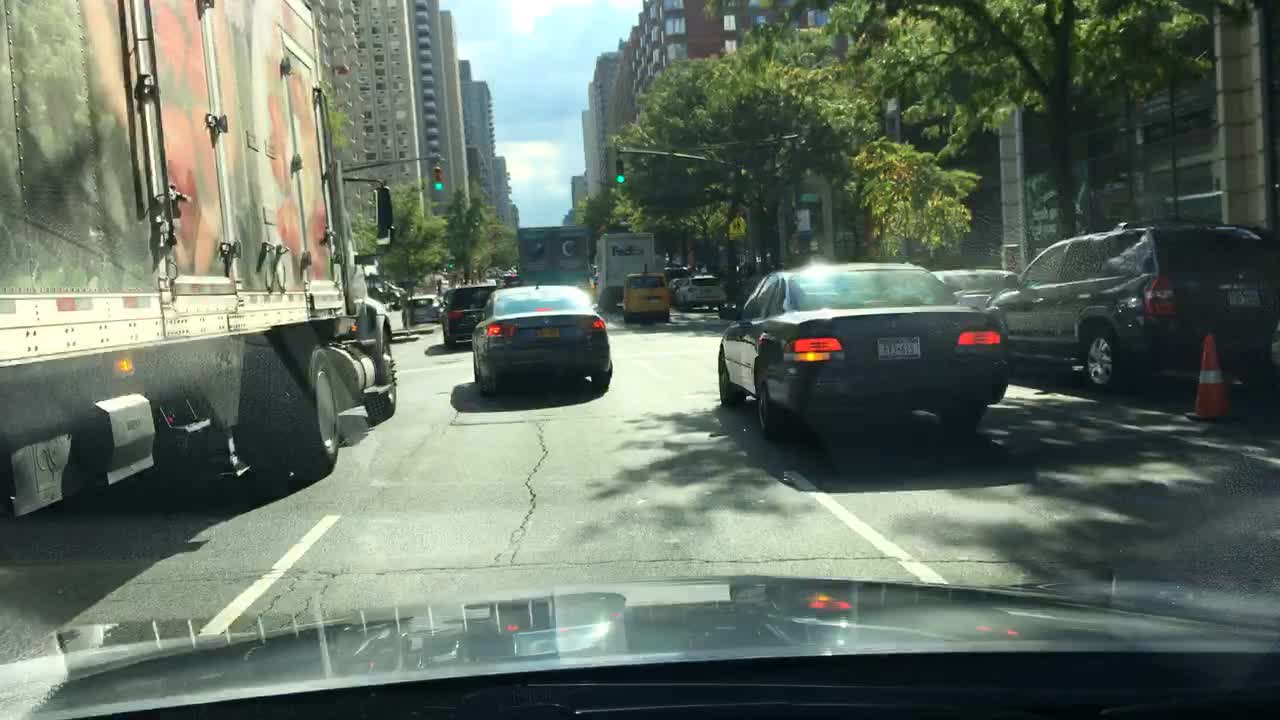car: (717, 261, 1014, 440), (987, 218, 1280, 389), (469, 279, 612, 398), (929, 268, 1018, 311), (443, 284, 501, 346), (676, 274, 729, 310), (408, 294, 444, 325), (662, 266, 690, 284), (667, 279, 689, 300), (500, 273, 513, 288)
traffic light: (614, 158, 624, 184), (434, 165, 442, 192)
traffic sign: (729, 215, 746, 240), (796, 209, 809, 230), (798, 192, 821, 202)
truck: (1, 0, 398, 518), (515, 224, 593, 297), (593, 231, 656, 310)
